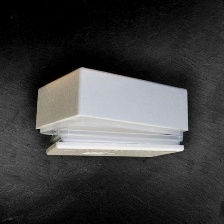foam_box: (29, 64, 198, 163)
